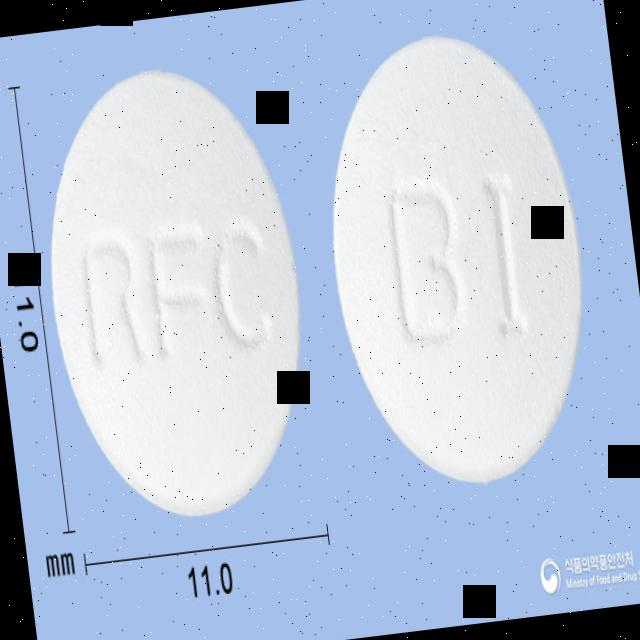Rofsin Tab: (25, 55, 324, 532), (308, 20, 606, 498)
